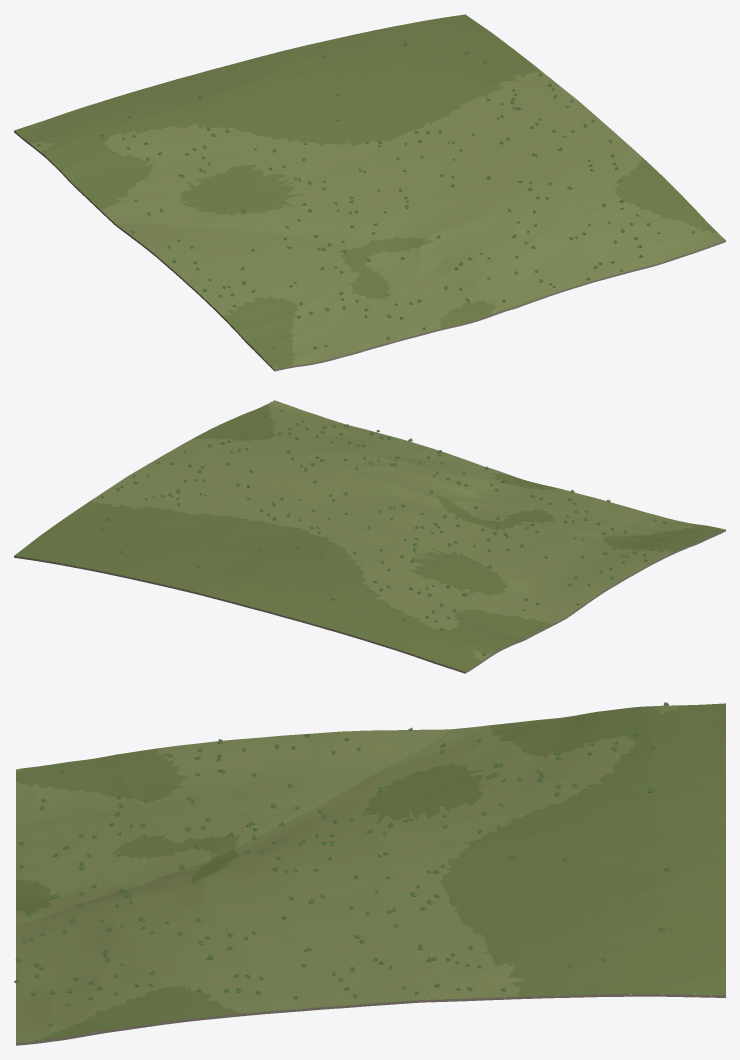
The model's file is parca_+7_-1-yakin.glb.
3 views of the same model, one above another, from view 1: azimuth 30°, elevation 25°; view 2: azimuth 150°, elevation 25°; view 3: azimuth 270°, elevation 25° (orthographic). The views are drawn at different scales.
Parts seen in each view (by area): view 1: parca_+7_-1_arazi, parca_+7_-1_bitkiler; view 2: parca_+7_-1_arazi, parca_+7_-1_bitkiler; view 3: parca_+7_-1_arazi, parca_+7_-1_bitkiler.
Boxes of the visible parts, bbox=[...] form: parca_+7_-1_arazi: bbox=[14, 14, 725, 371]; parca_+7_-1_bitkiler: bbox=[37, 42, 694, 349]; parca_+7_-1_arazi: bbox=[14, 400, 725, 673]; parca_+7_-1_bitkiler: bbox=[77, 410, 694, 655]; parca_+7_-1_arazi: bbox=[16, 703, 725, 1045]; parca_+7_-1_bitkiler: bbox=[14, 702, 716, 1026].
Size of the model in its own units: 1000 by 154 by 1003.
